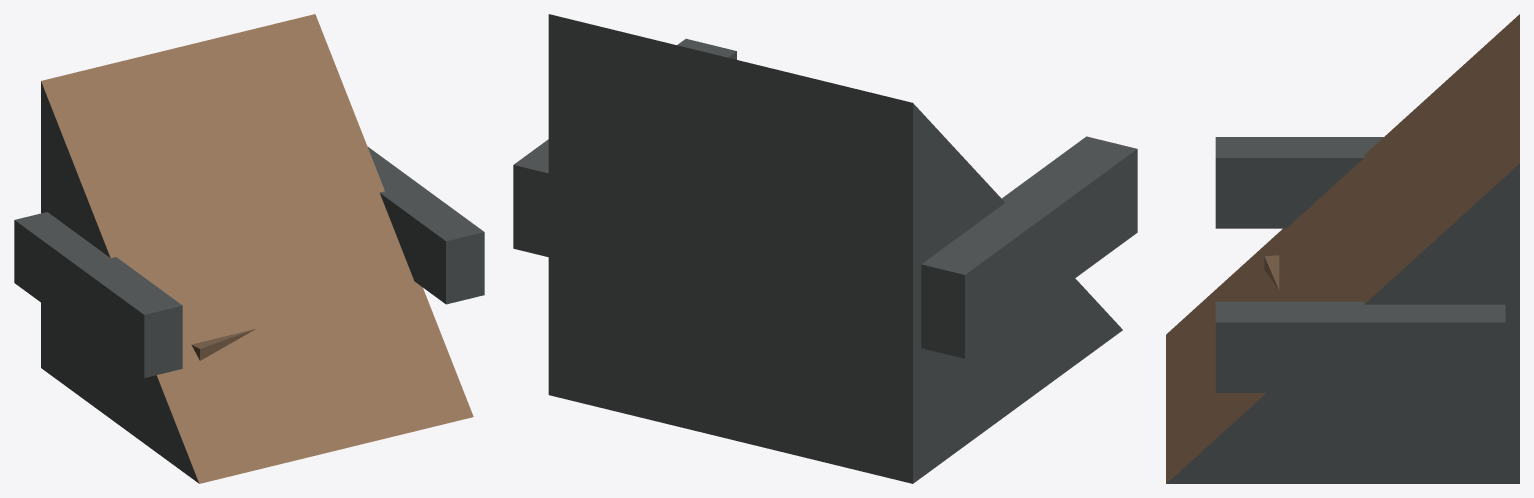
Rendered from df_ramp_a.glb.
3 renders of one model, left to right at view 1: azimuth 30°, elevation 25°; view 2: azimuth 150°, elevation 25°; view 3: azimuth 270°, elevation 25°, orthographic. The views are drawn at different scales.
Parts seen in each view (by area): view 1: muddy_ramp_slope, left_lip, right_lip, root_crossing; view 2: muddy_ramp_slope, left_lip, right_lip; view 3: muddy_ramp_slope, right_lip, left_lip, root_crossing.
Boxes of the visible parts, x1,y1,x2,y2 form: muddy_ramp_slope: [41, 14, 473, 483]; left_lip: [14, 212, 182, 377]; right_lip: [367, 146, 484, 304]; root_crossing: [191, 329, 255, 360]; muddy_ramp_slope: [548, 14, 1122, 483]; left_lip: [921, 136, 1137, 358]; right_lip: [513, 38, 736, 257]; muddy_ramp_slope: [1166, 14, 1519, 483]; right_lip: [1215, 301, 1505, 392]; left_lip: [1215, 137, 1383, 228]; root_crossing: [1264, 255, 1279, 290].
Bounding box in the file's own units: 1.24 × 1 × 1.
